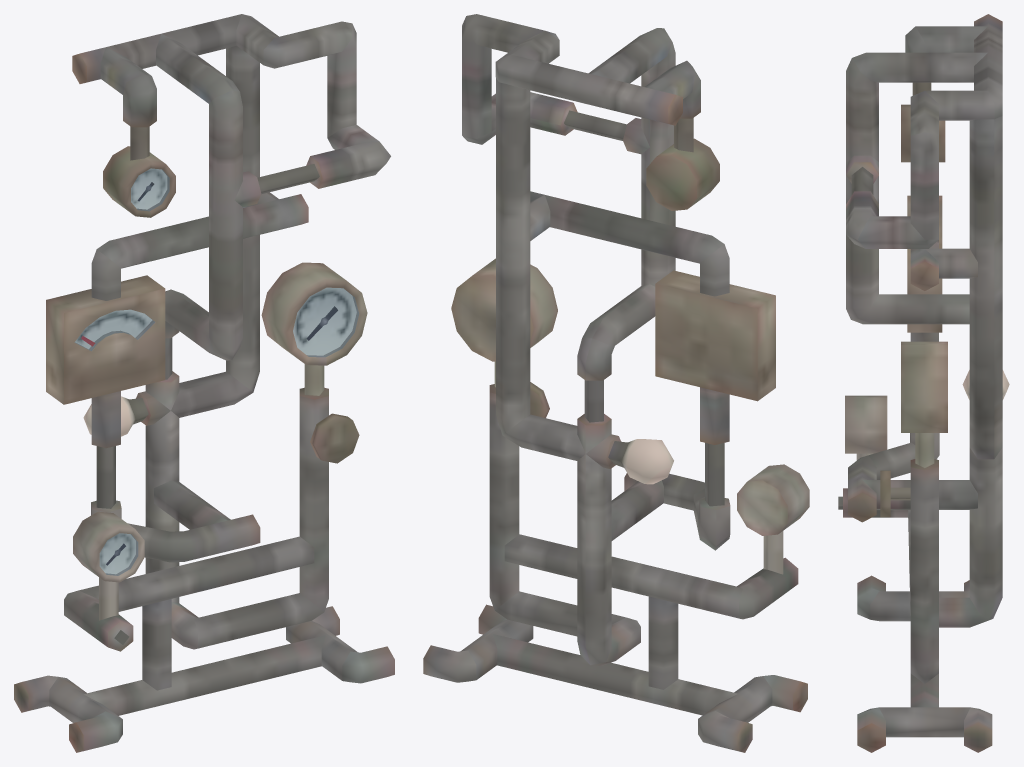
3 views of the same model, side by side, from view 1: azimuth 30°, elevation 25°; view 2: azimuth 150°, elevation 25°; view 3: azimuth 270°, elevation 25° (orthographic). The views are drawn at different scales.
Bounding box in the file's own units: 10 × 19.65 × 4.91.
2 materials, 1 textured.
